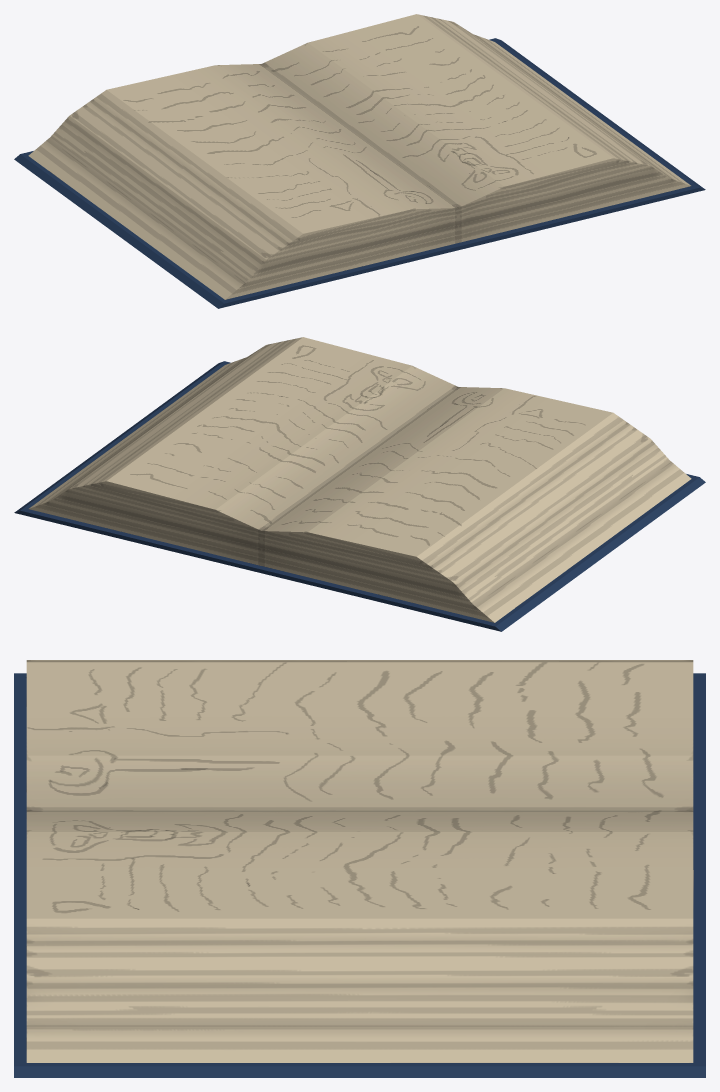
The model's file is open_book.obj.
3 views of the same model, one above another, from view 1: azimuth 30°, elevation 25°; view 2: azimuth 150°, elevation 25°; view 3: azimuth 270°, elevation 25° (orthographic). The views are drawn at different scales.
Visible parts, largest first — view 1: Libro_abierto_Cube.008; view 2: Libro_abierto_Cube.008; view 3: Libro_abierto_Cube.008.
Part boxes in pixels (box(x1,y1,x2,y2)): Libro_abierto_Cube.008: box(14, 14, 705, 308); Libro_abierto_Cube.008: box(14, 337, 705, 631); Libro_abierto_Cube.008: box(14, 660, 705, 1077).
Size of the model in its own units: 0.9061 by 0.09 by 0.6573.
